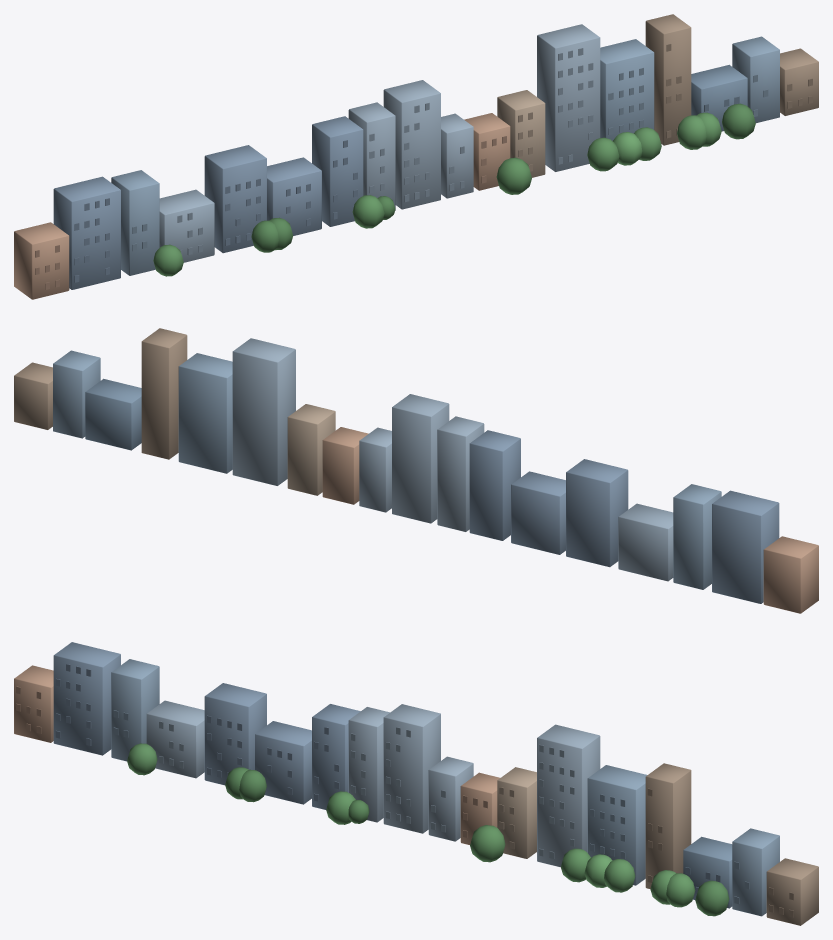
Rendered from town_skyline.glb.
The picture shows the model from 3 angles, top to bottom: view 1: azimuth 30°, elevation 25°; view 2: azimuth 150°, elevation 25°; view 3: azimuth 330°, elevation 25°; orthographic projection.
Visible parts, largest first — view 1: town_skyline; view 2: town_skyline; view 3: town_skyline.
Part boxes in pixels (x1,y1,x2,y2): town_skyline: (14,14,818,299); town_skyline: (14,328,818,613); town_skyline: (14,642,818,925).
Bounding box in the file's own units: 124 × 19.72 × 8.56.
